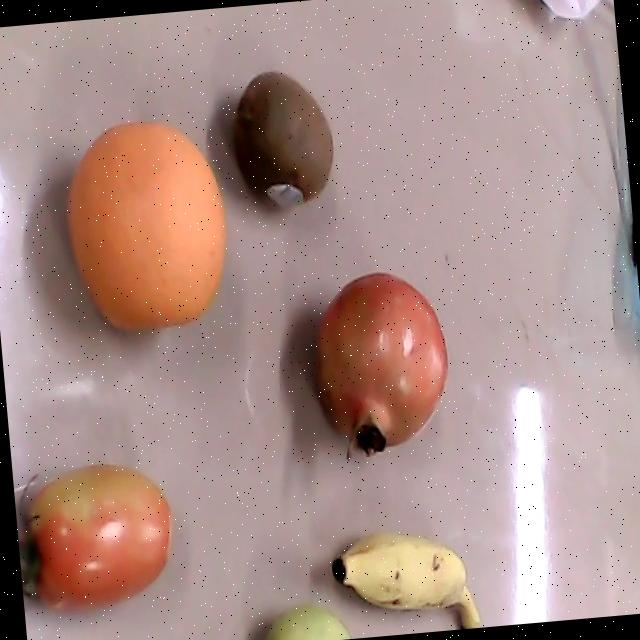kiwi: (231, 71, 332, 209)
lemon: (266, 603, 349, 640)
orange: (66, 119, 225, 329)
pomegranate: (310, 272, 448, 460)
tomato: (16, 464, 169, 609)
